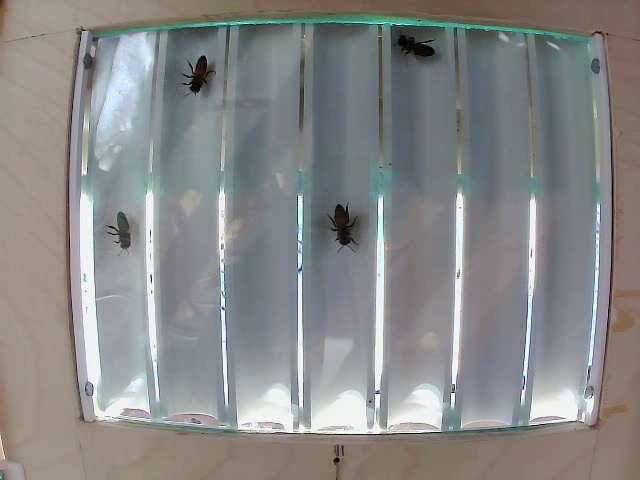bee: (326, 202, 360, 257), (109, 208, 140, 263), (183, 54, 220, 91), (406, 28, 432, 63)
